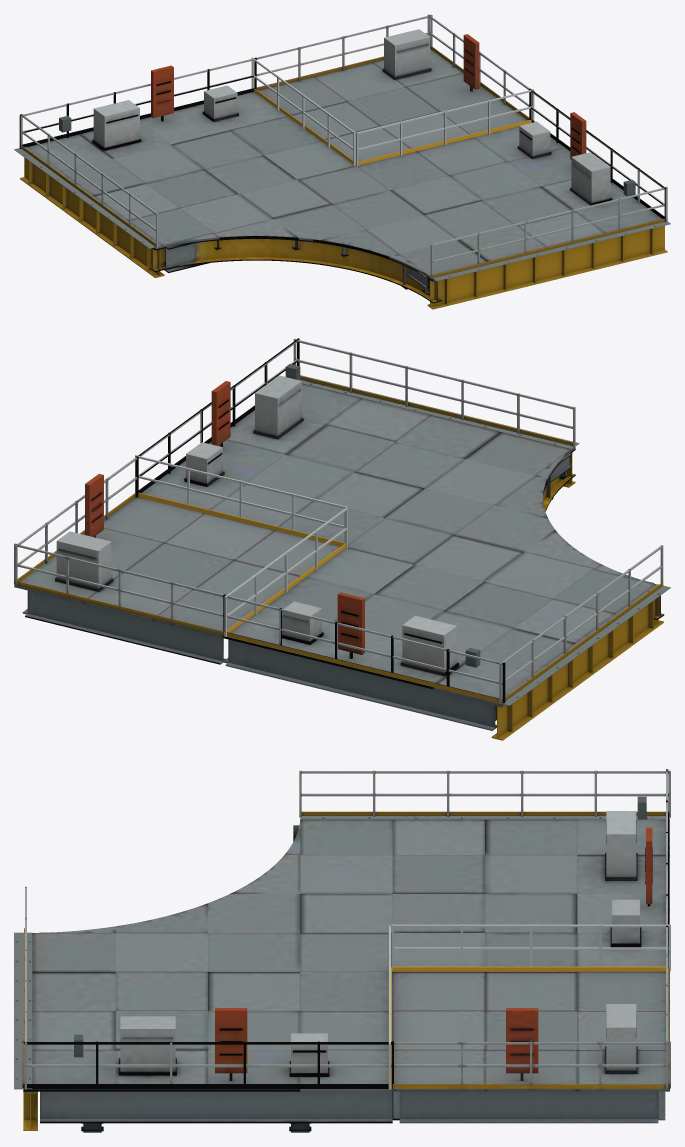
Rendered from deck_quad_v5.glb.
3 renders of one model, top to bottom at view 1: azimuth 30°, elevation 25°; view 2: azimuth 150°, elevation 25°; view 3: azimuth 270°, elevation 25°, orthographic. The views are drawn at different scales.
Parts seen in each view (by area): view 1: body, opt_corner, opt_edgeA_slot, opt_edgeB_slot, opt_cornercut, opt_edgeB_seam, opt_edgeA_seam; view 2: body, opt_corner, opt_edgeB_slot, opt_cornercut, opt_edgeA_slot, opt_edgeB_seam, opt_edgeA_seam; view 3: body, opt_corner, opt_edgeB_slot, opt_cornercut, opt_edgeA_seam, opt_edgeB_seam, opt_edgeA_slot.
Part boxes in pixels (x1,y1,x2,y2): body: (19, 58, 666, 303); opt_corner: (255, 14, 530, 164); opt_edgeA_slot: (427, 186, 667, 309); opt_edgeB_slot: (20, 113, 164, 277); opt_cornercut: (251, 57, 534, 166); opt_edgeB_seam: (14, 147, 160, 248); opt_edgeA_seam: (429, 221, 670, 281); body: (138, 338, 664, 730); opt_corner: (14, 456, 340, 664); opt_edgeB_slot: (491, 545, 663, 740); opt_cornercut: (135, 455, 347, 636); opt_edgeA_slot: (293, 338, 575, 487); opt_edgeB_seam: (495, 584, 670, 705); opt_edgeA_seam: (300, 375, 579, 449); body: (22, 769, 669, 1132); opt_corner: (391, 925, 670, 1123); opt_edgeB_slot: (299, 770, 670, 817); opt_cornercut: (388, 924, 670, 1089); opt_edgeA_seam: (14, 932, 32, 1089); opt_edgeB_seam: (300, 816, 669, 819); opt_edgeA_slot: (23, 886, 37, 1130).
Size of the model in its own units: 14.22 by 2.76 by 14.22.
6 materials, 4 textured.
